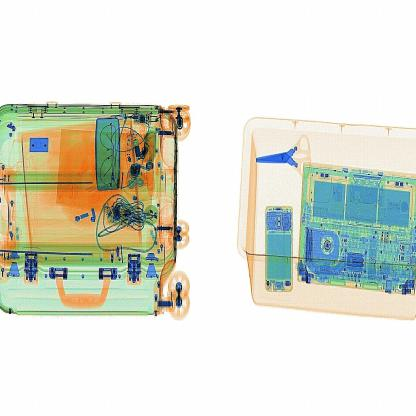gun: (255, 138, 314, 180)
